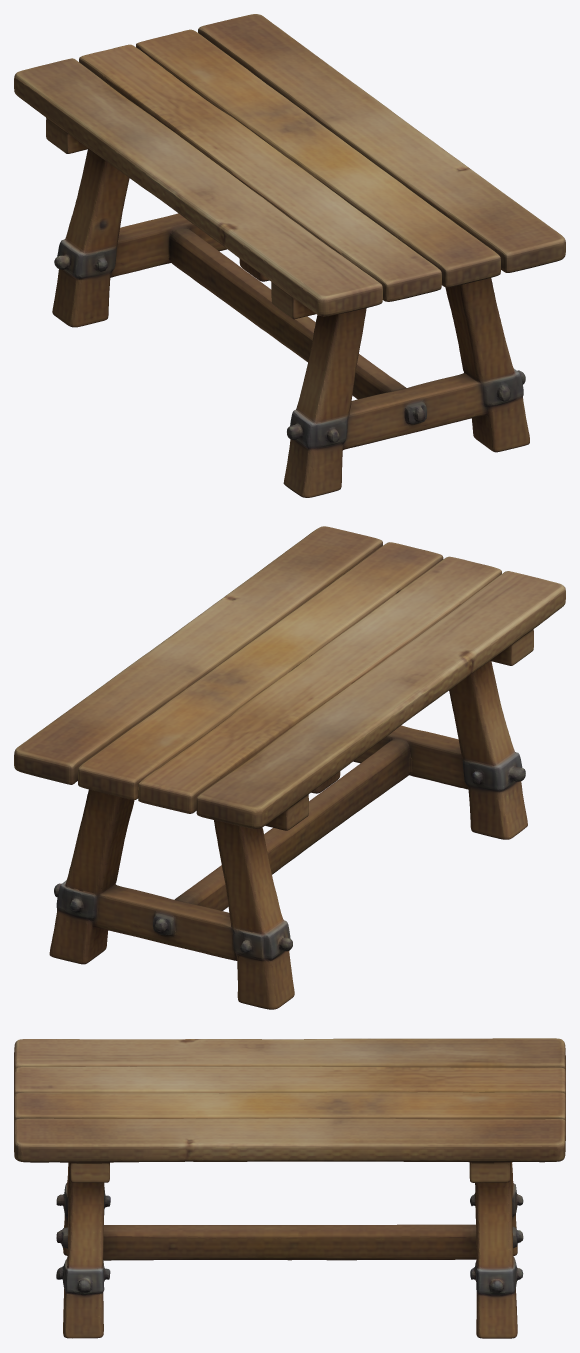
The model's file is market_furniture.glb.
3 views of the same model, one above another, from view 1: azimuth 30°, elevation 25°; view 2: azimuth 150°, elevation 25°; view 3: azimuth 270°, elevation 25° (orthographic). The views are drawn at different scales.
Parts seen in each view (by area): view 1: world; view 2: world; view 3: world.
Part boxes in pixels (x1,y1,x2,y2): world: (14, 14, 565, 497); world: (14, 526, 565, 1009); world: (14, 1038, 565, 1338).
Bounding box in the file's own units: 0.4616 × 0.3976 × 1.
